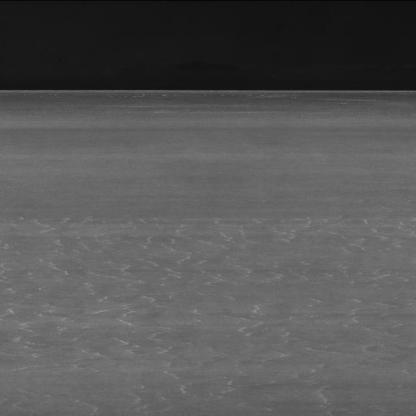silk_spot: (14, 212, 410, 409)
